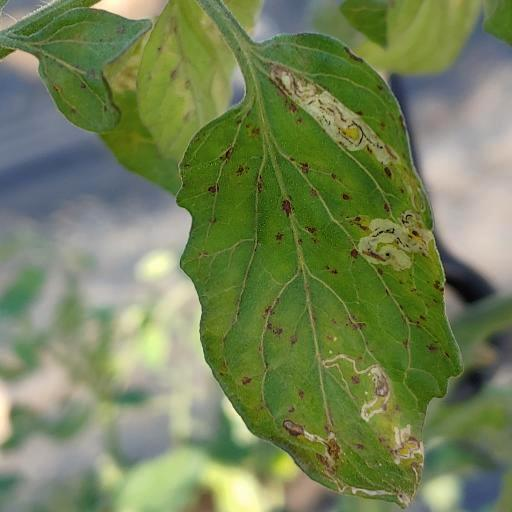disease_tomato: (174, 33, 463, 509)
